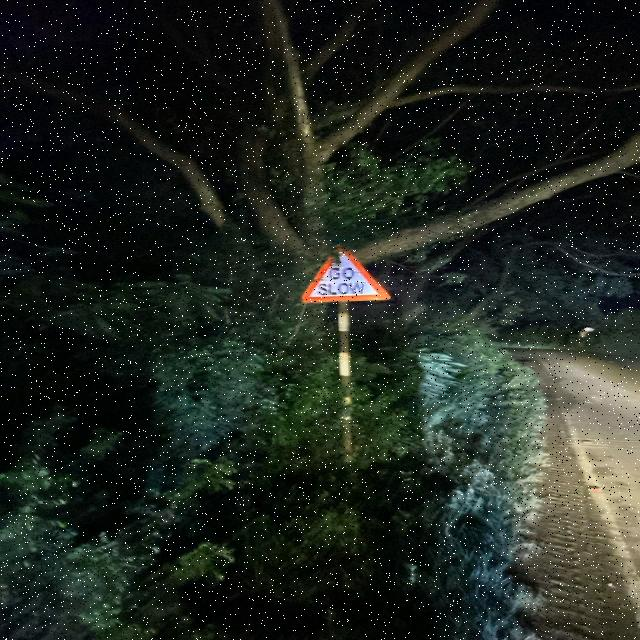go_slow: (295, 245, 390, 304)
